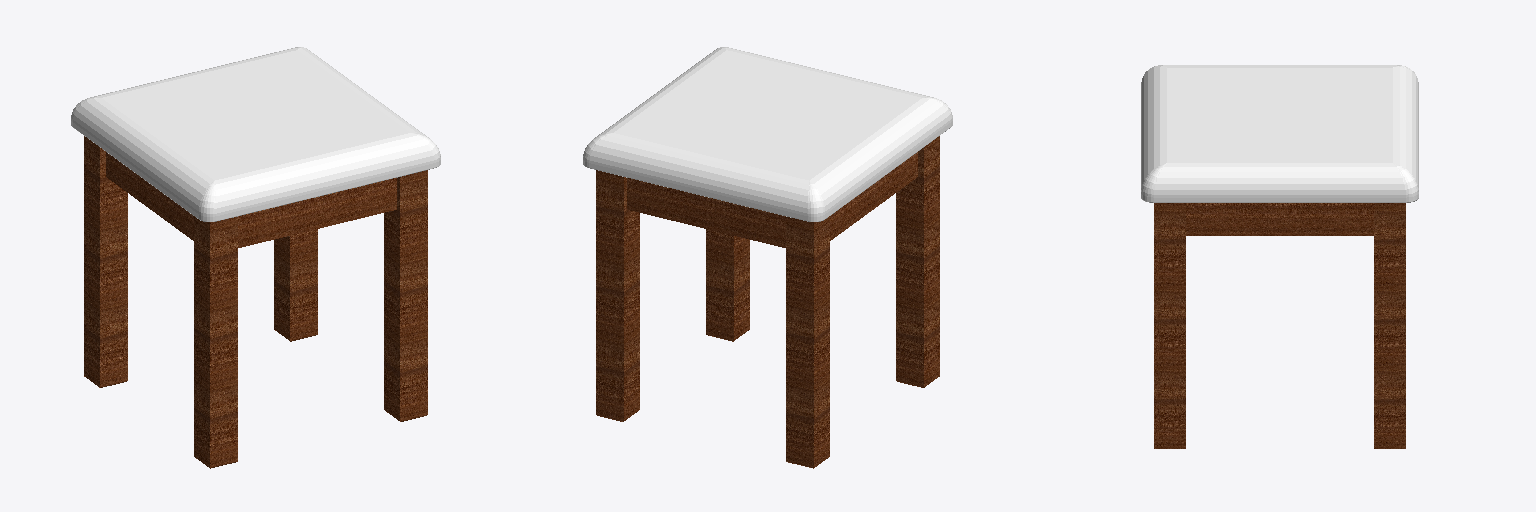
3 views of the same model, side by side, from view 1: azimuth 30°, elevation 25°; view 2: azimuth 150°, elevation 25°; view 3: azimuth 270°, elevation 25° (orthographic).
Visible parts, largest first — view 1: |Stool|Root|Seat_pad-2|cotton_beige_2d-2, |Stool|Root|Seat_pad-2|cotton_beige_2d, |Stool|Root|Legs-1|polished_mahogany_2d_[Joint_'Legs-1'], |Stool|Root|Legs-5|polished_mahogany_2d_[Joint_'Legs-5'], |Stool|Root|Legs-7|polished_mahogany_2d_[Joint_'Legs-7'], |Stool|Root|Seat_frame_front_rail-1|polished_mahogany_2d-3_[Join, |Stool|Root|Legs-6|polished_mahogany_2d_[Joint_'Legs-6'], |Stool|Root|Seat_frame_side_rail-1|polished_mahogany_2d-2_[Joint; view 2: |Stool|Root|Seat_pad-2|cotton_beige_2d-2, |Stool|Root|Seat_pad-2|cotton_beige_2d, |Stool|Root|Legs-7|polished_mahogany_2d_[Joint_'Legs-7'], |Stool|Root|Legs-6|polished_mahogany_2d_[Joint_'Legs-6'], |Stool|Root|Legs-1|polished_mahogany_2d_[Joint_'Legs-1'], |Stool|Root|Seat_frame_front_rail-4|polished_mahogany_2d-3_[Join, |Stool|Root|Legs-5|polished_mahogany_2d_[Joint_'Legs-5'], |Stool|Root|Seat_frame_side_rail-1|polished_mahogany_2d-2_[Joint; view 3: |Stool|Root|Seat_pad-2|cotton_beige_2d-2, |Stool|Root|Seat_pad-2|cotton_beige_2d, |Stool|Root|Legs-5|polished_mahogany_2d_[Joint_'Legs-5'], |Stool|Root|Legs-6|polished_mahogany_2d_[Joint_'Legs-6'], |Stool|Root|Seat_frame_side_rail-4|polished_mahogany_2d-2_[Joint.
Part boxes in pixels (x1,y1,x2,y2): |Stool|Root|Seat_pad-2|cotton_beige_2d-2: (102, 50, 409, 180); |Stool|Root|Seat_pad-2|cotton_beige_2d: (71, 47, 440, 221); |Stool|Root|Legs-1|polished_mahogany_2d_[Joint_'Legs-1']: (194, 216, 237, 468); |Stool|Root|Legs-5|polished_mahogany_2d_[Joint_'Legs-5']: (384, 170, 427, 421); |Stool|Root|Legs-7|polished_mahogany_2d_[Joint_'Legs-7']: (84, 136, 127, 387); |Stool|Root|Seat_frame_front_rail-1|polished_mahogany_2d-3_[Join: (238, 178, 396, 247); |Stool|Root|Legs-6|polished_mahogany_2d_[Joint_'Legs-6']: (274, 229, 317, 341); |Stool|Root|Seat_frame_side_rail-1|polished_mahogany_2d-2_[Joint: (106, 152, 193, 240); |Stool|Root|Seat_pad-2|cotton_beige_2d-2: (614, 50, 921, 180); |Stool|Root|Seat_pad-2|cotton_beige_2d: (583, 47, 952, 221); |Stool|Root|Legs-7|polished_mahogany_2d_[Joint_'Legs-7']: (786, 216, 829, 468); |Stool|Root|Legs-6|polished_mahogany_2d_[Joint_'Legs-6']: (596, 170, 639, 421); |Stool|Root|Legs-1|polished_mahogany_2d_[Joint_'Legs-1']: (896, 136, 939, 387); |Stool|Root|Seat_frame_front_rail-4|polished_mahogany_2d-3_[Join: (627, 178, 785, 247); |Stool|Root|Legs-5|polished_mahogany_2d_[Joint_'Legs-5']: (706, 229, 749, 341); |Stool|Root|Seat_frame_side_rail-1|polished_mahogany_2d-2_[Joint: (830, 152, 917, 240); |Stool|Root|Seat_pad-2|cotton_beige_2d-2: (1167, 68, 1392, 162); |Stool|Root|Seat_pad-2|cotton_beige_2d: (1141, 65, 1418, 202); |Stool|Root|Legs-5|polished_mahogany_2d_[Joint_'Legs-5']: (1154, 203, 1185, 448); |Stool|Root|Legs-6|polished_mahogany_2d_[Joint_'Legs-6']: (1374, 203, 1405, 448); |Stool|Root|Seat_frame_side_rail-4|polished_mahogany_2d-2_[Joint: (1186, 203, 1373, 235).
Size of the model in its own units: 0.43 by 0.48 by 0.43.
Materials: 5 (1 with a texture image).